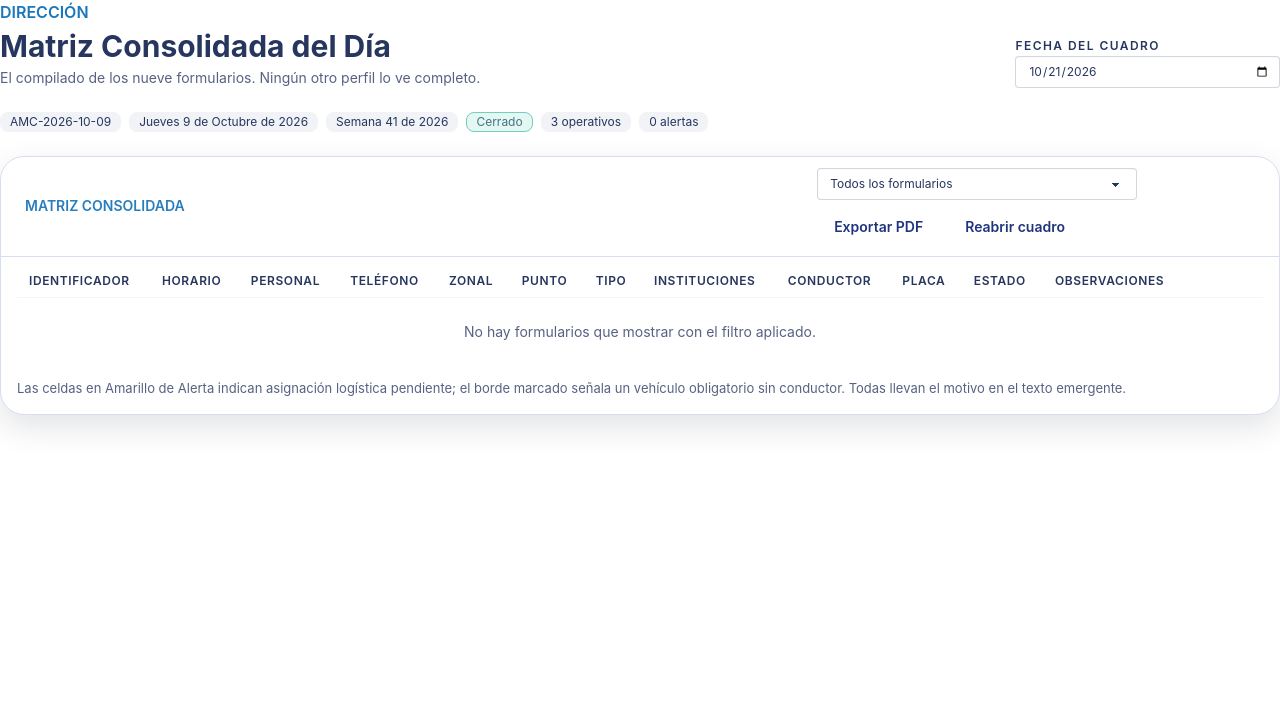
Test case: P-04 reabre un cuadro cerrado › con el cuadro cerrado ofrece «Reabrir cuadro», confirma y lo reabre
Step 1. Click the button "Reabrir cuadro" → (1015, 226), box [948,208,1082,244]
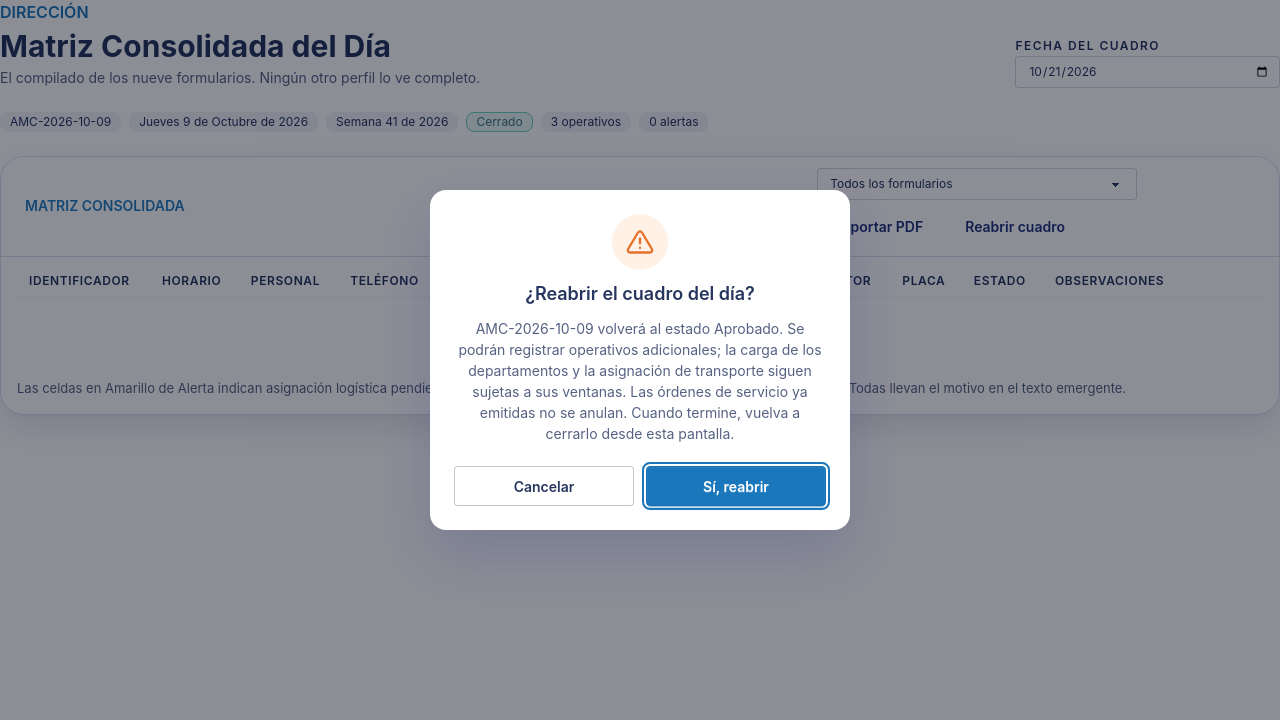
Now the text "órdenes de servicio ya emitidas no se anulan" is shown, box [458,320,822,442]
Step 2. Click the button "Sí, reabrir" → (736, 486), box [646,466,826,506]
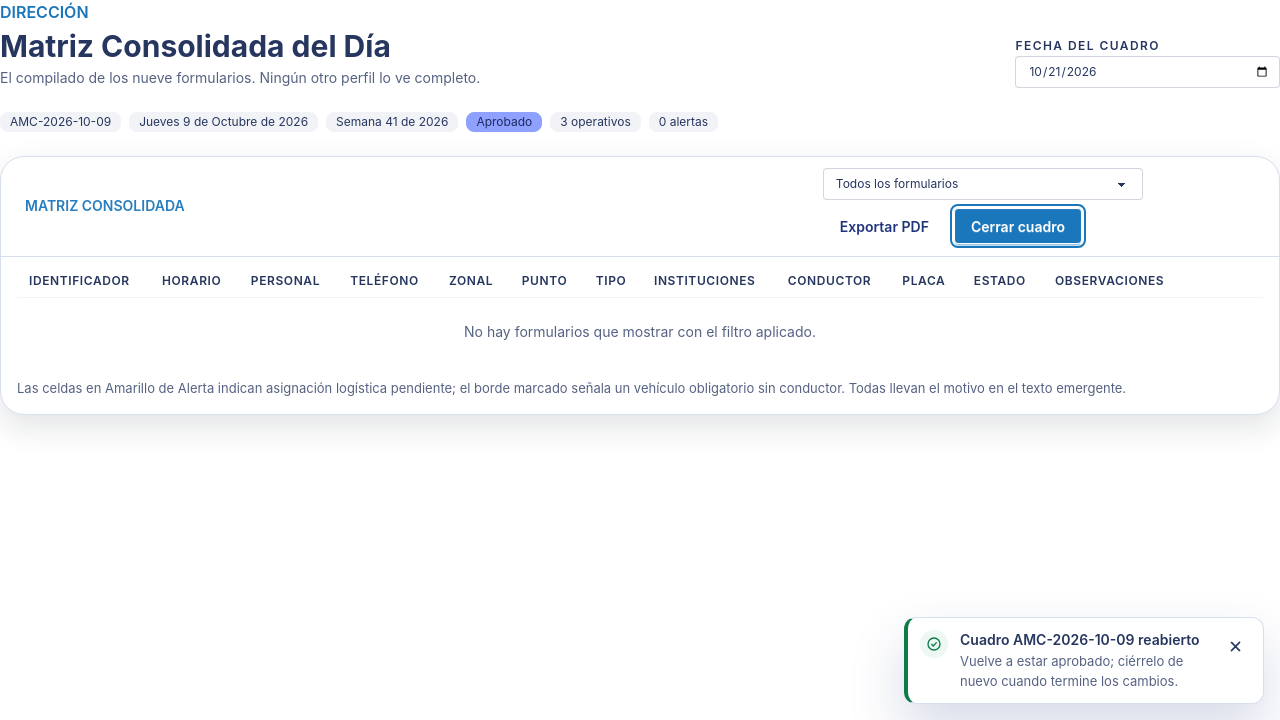
Expected: the button "Cerrar cuadro" is enabled, [954,208,1082,244]
Now the text "Cuadro AMC-2026-10-09 reabierto" is shown, box [960,630,1207,650]
